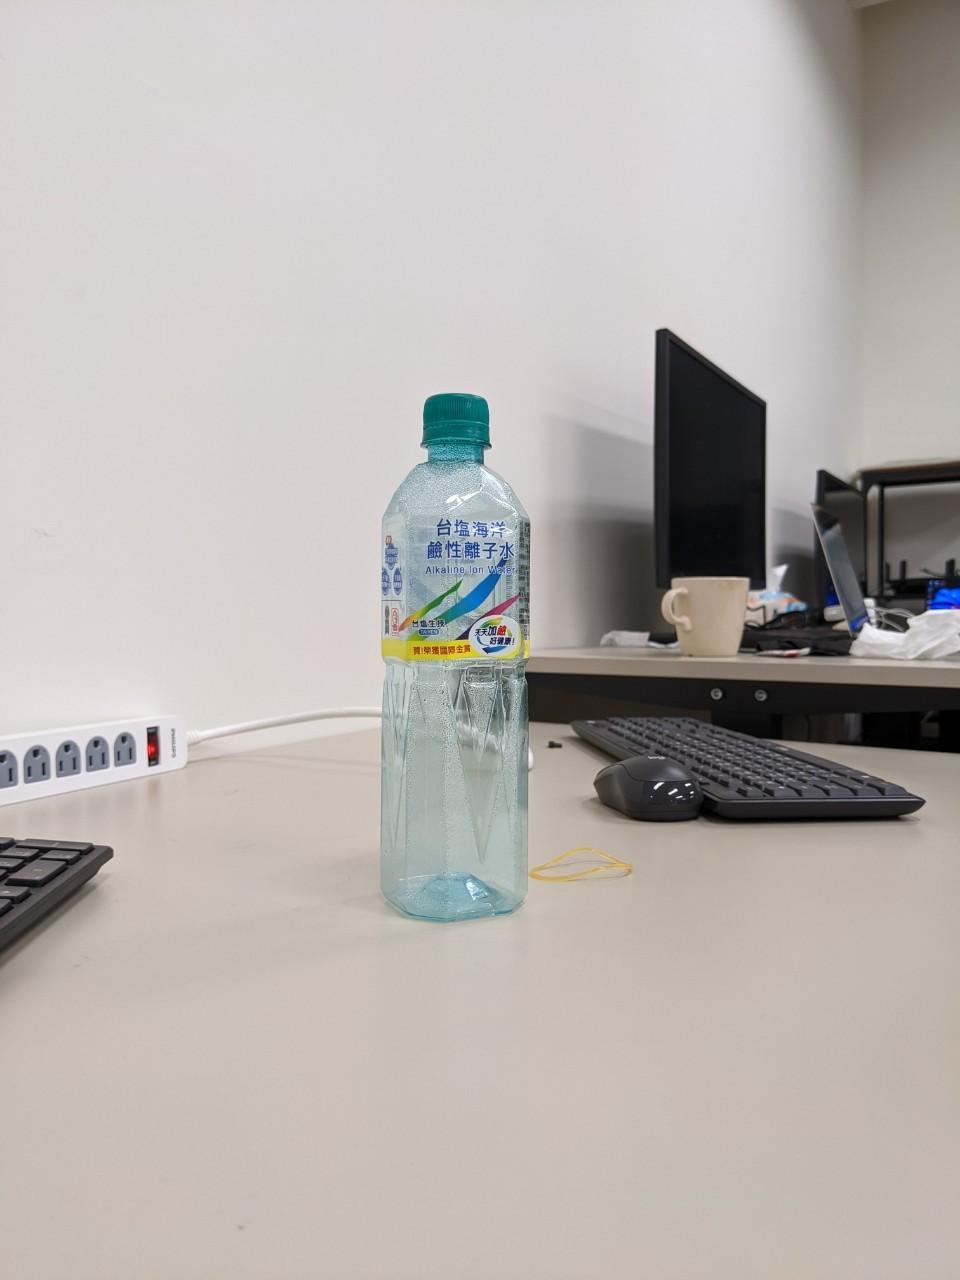BIODEGRADABLE: (362, 367, 544, 932)
